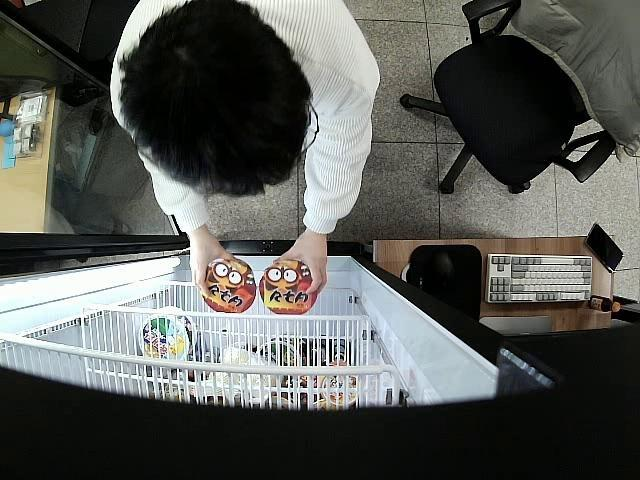05_nuguri_L: (256, 258, 314, 314), (204, 255, 252, 316)
